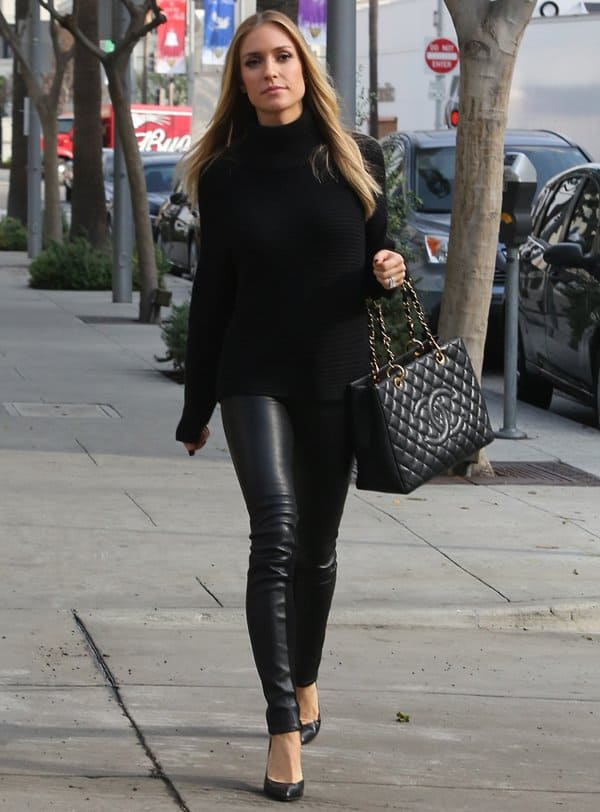channel: (332, 332, 519, 502), (407, 390, 481, 450), (374, 303, 407, 412)
